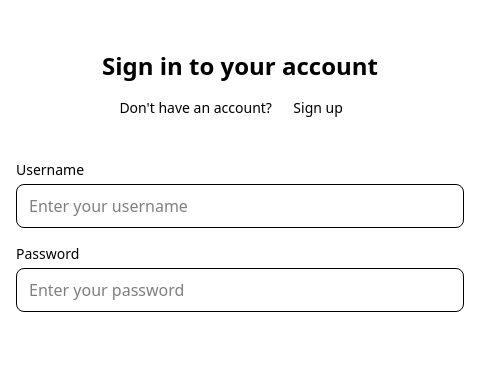
AuthForm Component › Accessibility › has proper form labels in register mode
Step 1. Click the button "Sign up" → (318, 108), box [276,89,361,128]
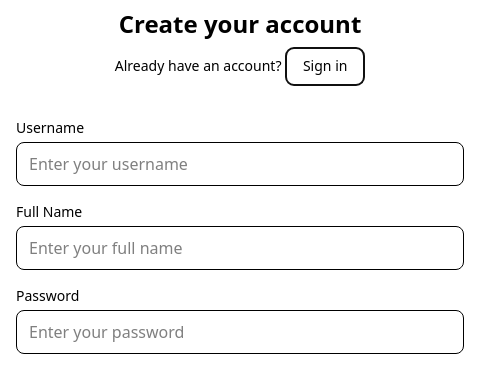
Expected: the field labelled "Username" is shown, [16,142,464,186]
Expected: the field labelled "Full Name" is shown, [16,226,464,270]
